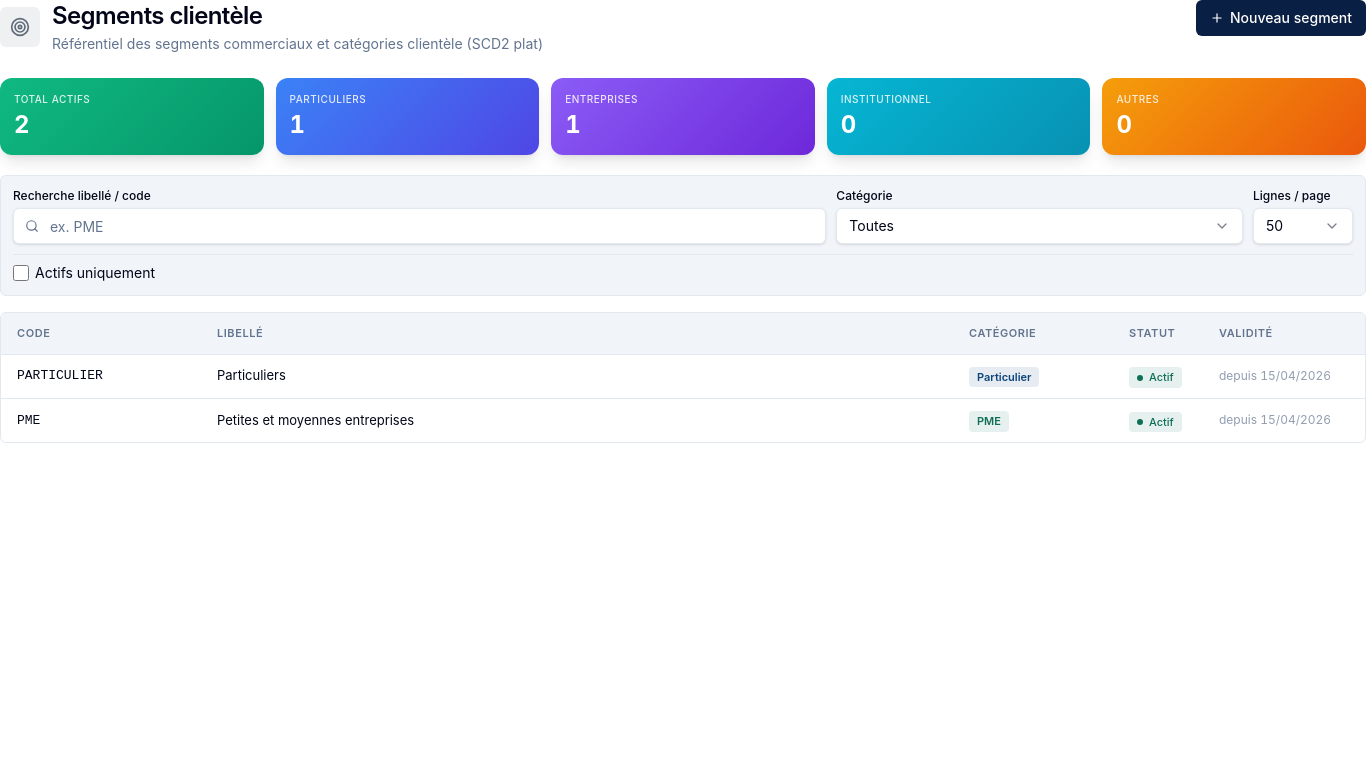
Test: SegmentsPage › drawer admin : boutons Modifier + Désactiver visibles
Click the text "PARTICULIER" at (60, 376), box [17,368,103,383]
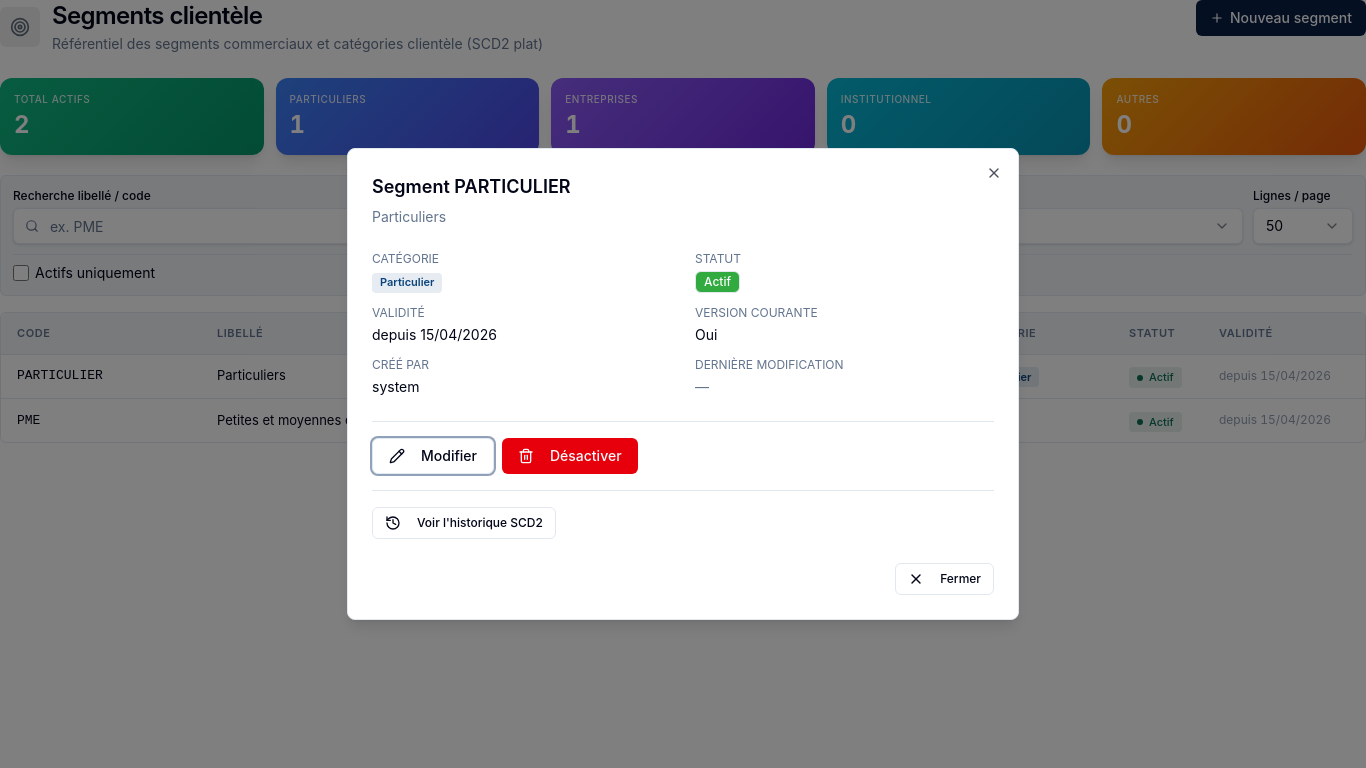
expect the button "Modifier" is shown: met, box [372,438,494,474]
expect the button "Désactiver" is shown: met, box [502,438,638,474]
